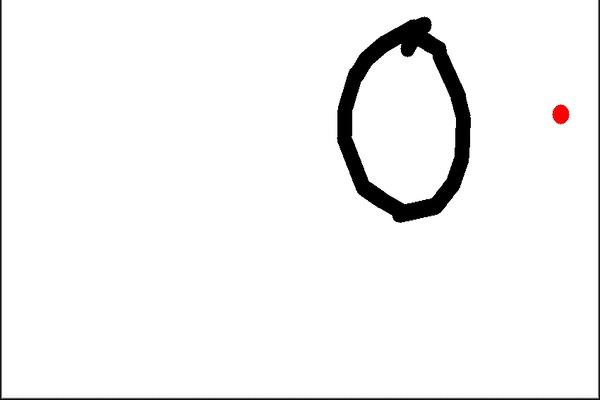O: (319, 9, 472, 222)
